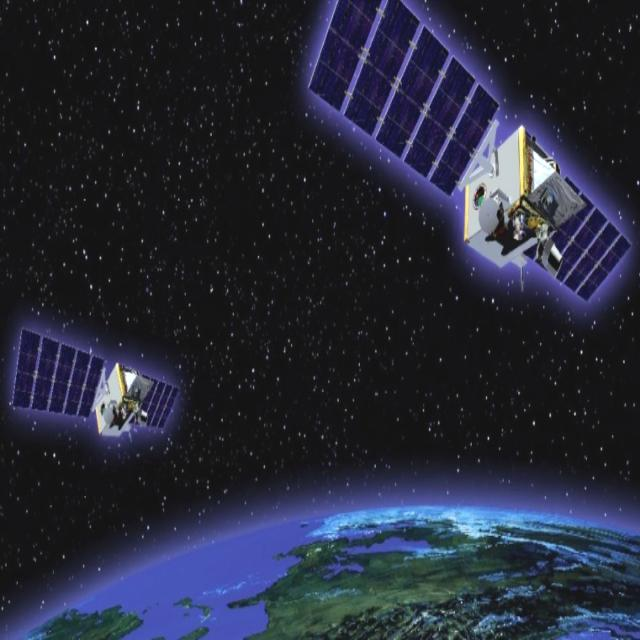medium_debris: (302, 3, 632, 314), (6, 317, 186, 474)
